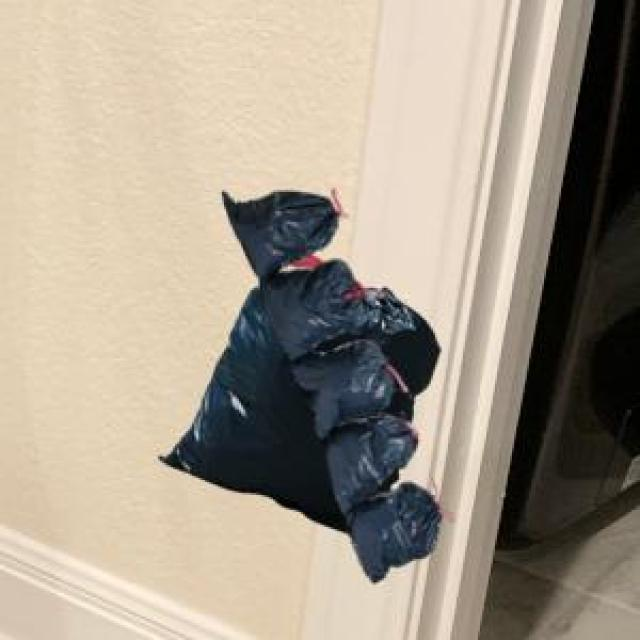garbage_bag: (156, 182, 446, 583)
